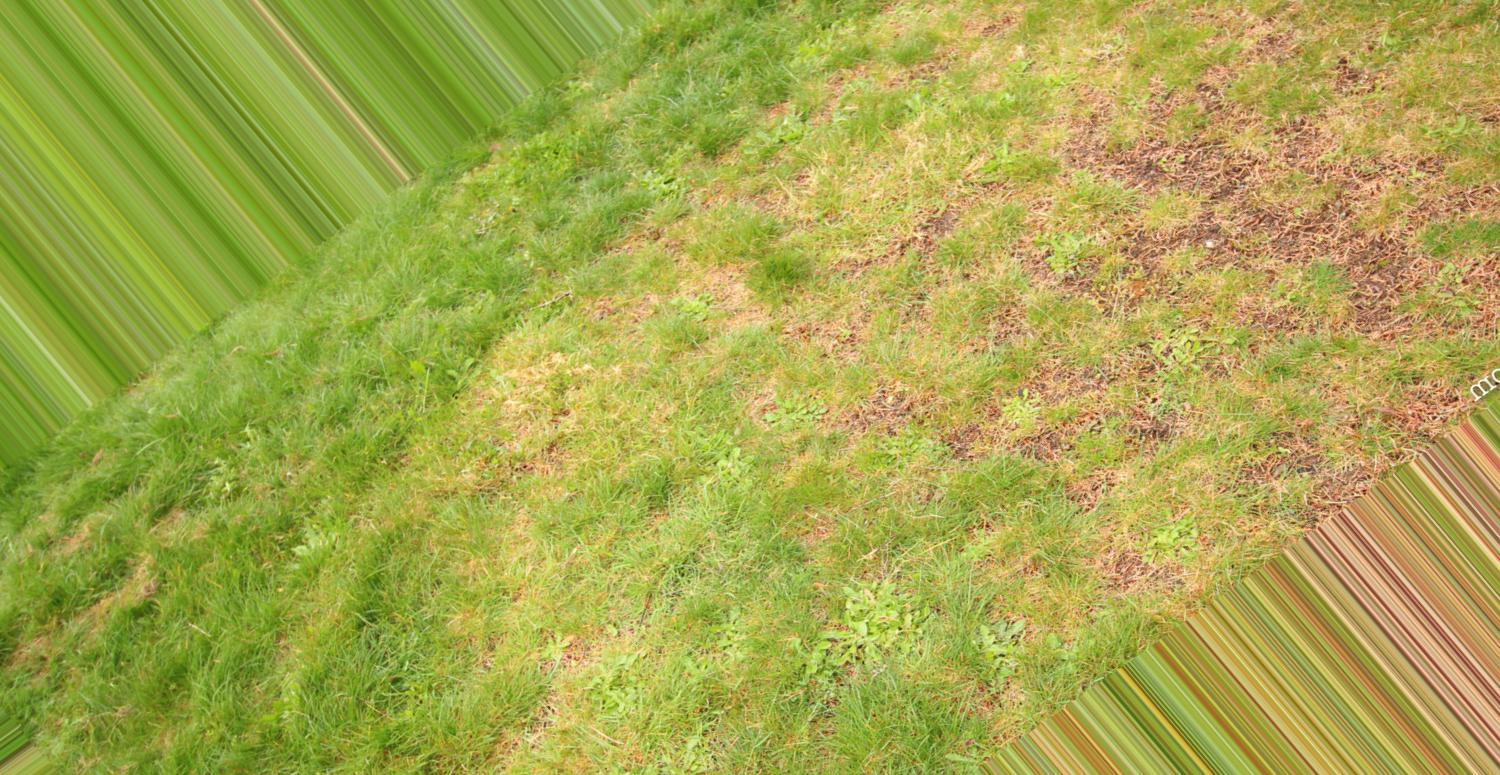patch: (1083, 128, 1379, 433), (813, 178, 1064, 409), (1022, 470, 1196, 579), (558, 328, 742, 412)
